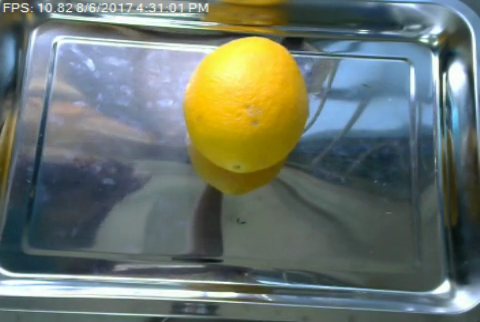Orange: (184, 36, 310, 172)
